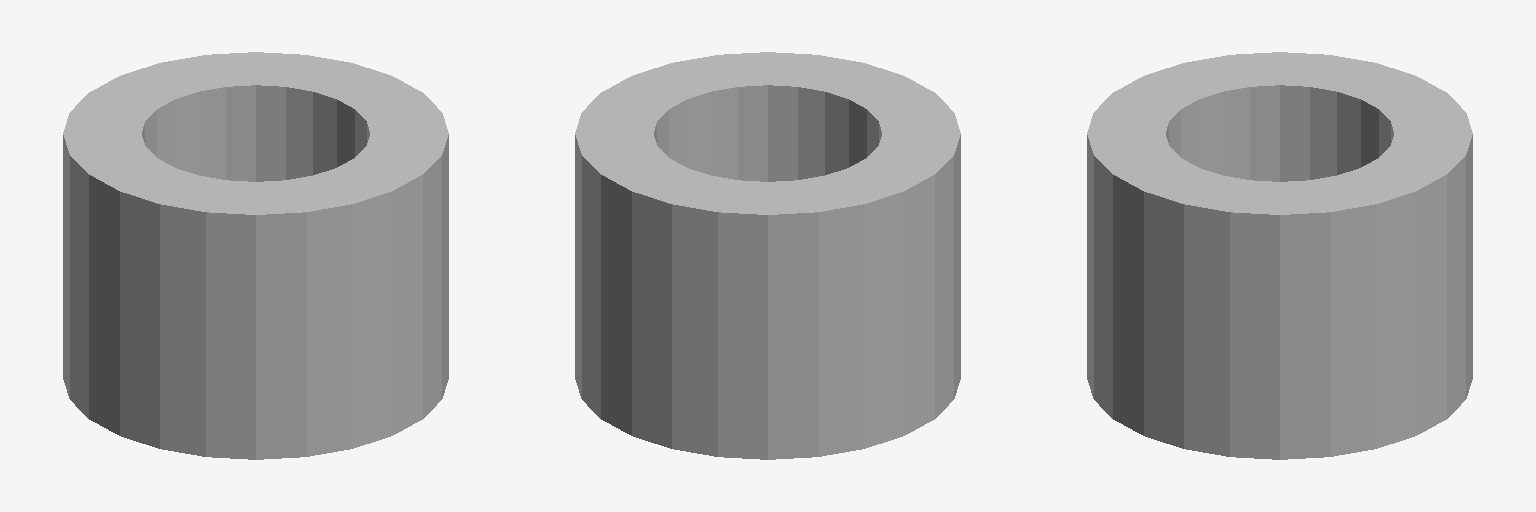
The model's file is hover_effect_cylinder.obj.
The picture shows the model from 3 angles: view 1: azimuth 30°, elevation 25°; view 2: azimuth 150°, elevation 25°; view 3: azimuth 270°, elevation 25°; orthographic projection.
Visible parts, largest first — view 1: mergedBlocks; view 2: mergedBlocks; view 3: mergedBlocks.
Boxes of the visible parts, x1=… form: mergedBlocks: x1=63, y1=52, x2=448, y2=459; mergedBlocks: x1=575, y1=52, x2=960, y2=459; mergedBlocks: x1=1087, y1=52, x2=1472, y2=459.
Size of the model in its own units: 1 by 0.7 by 1.